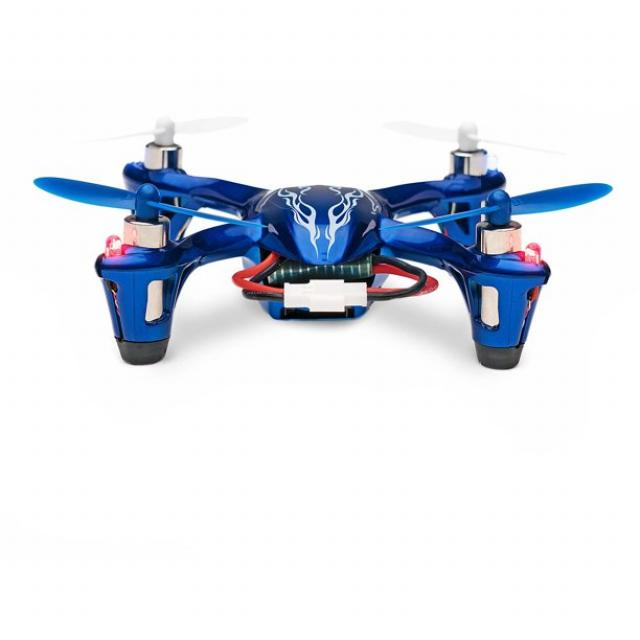drones: (26, 105, 616, 382)
